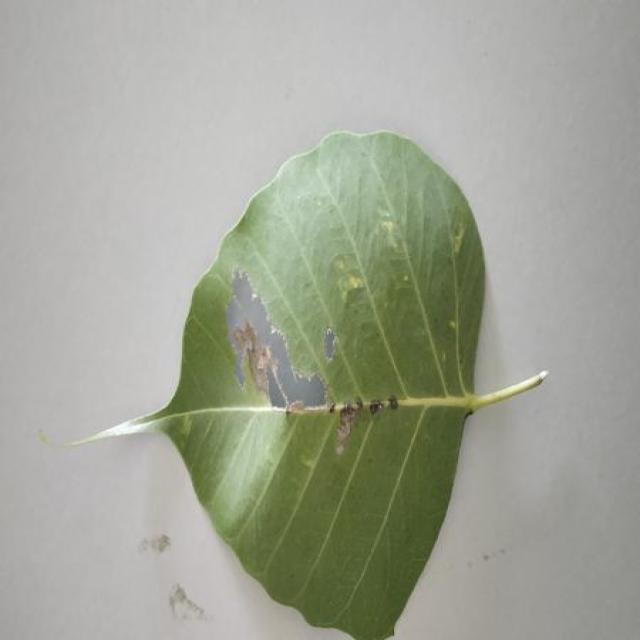arali: (78, 131, 547, 640)
defected arali: (80, 132, 545, 640)
